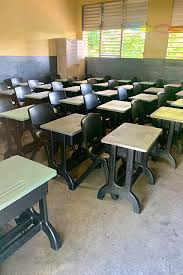desk: (0, 153, 58, 263), (98, 120, 161, 213), (39, 111, 86, 186), (149, 105, 182, 168), (0, 103, 34, 154), (96, 98, 132, 123), (127, 90, 158, 105), (57, 94, 84, 111), (22, 89, 51, 102), (94, 86, 119, 99)
